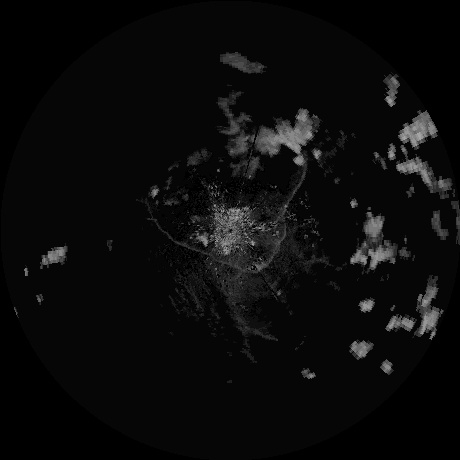frontgust: (145, 202, 252, 271), (257, 161, 305, 270)
